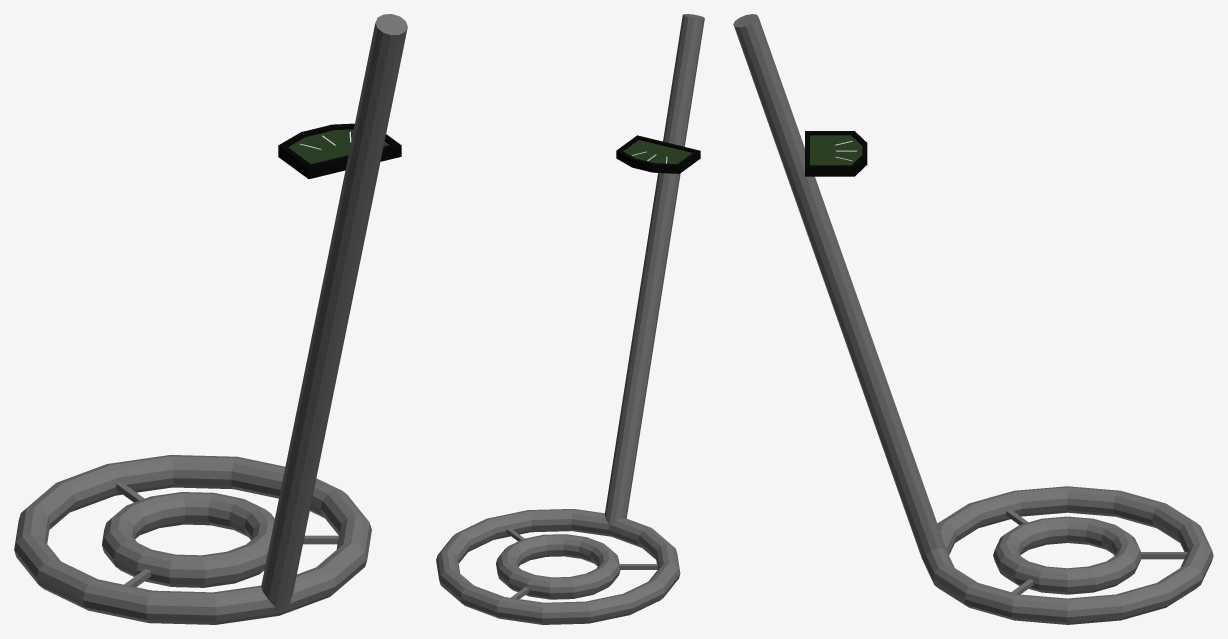
Rendered from metal_detector.glb.
The picture shows the model from 3 angles, left to right: view 1: azimuth 30°, elevation 25°; view 2: azimuth 150°, elevation 25°; view 3: azimuth 270°, elevation 25°; orthographic projection. The views are drawn at different scales.
Parts seen in each view (by area): view 1: Metal Detector; view 2: Metal Detector; view 3: Metal Detector.
Boxes of the visible parts, x1,y1,x2,y2 form: Metal Detector: (14,14,407,624); Metal Detector: (436,14,704,624); Metal Detector: (733,14,1213,624).
Size of the model in its own units: 1.1 by 2.29 by 1.81.
